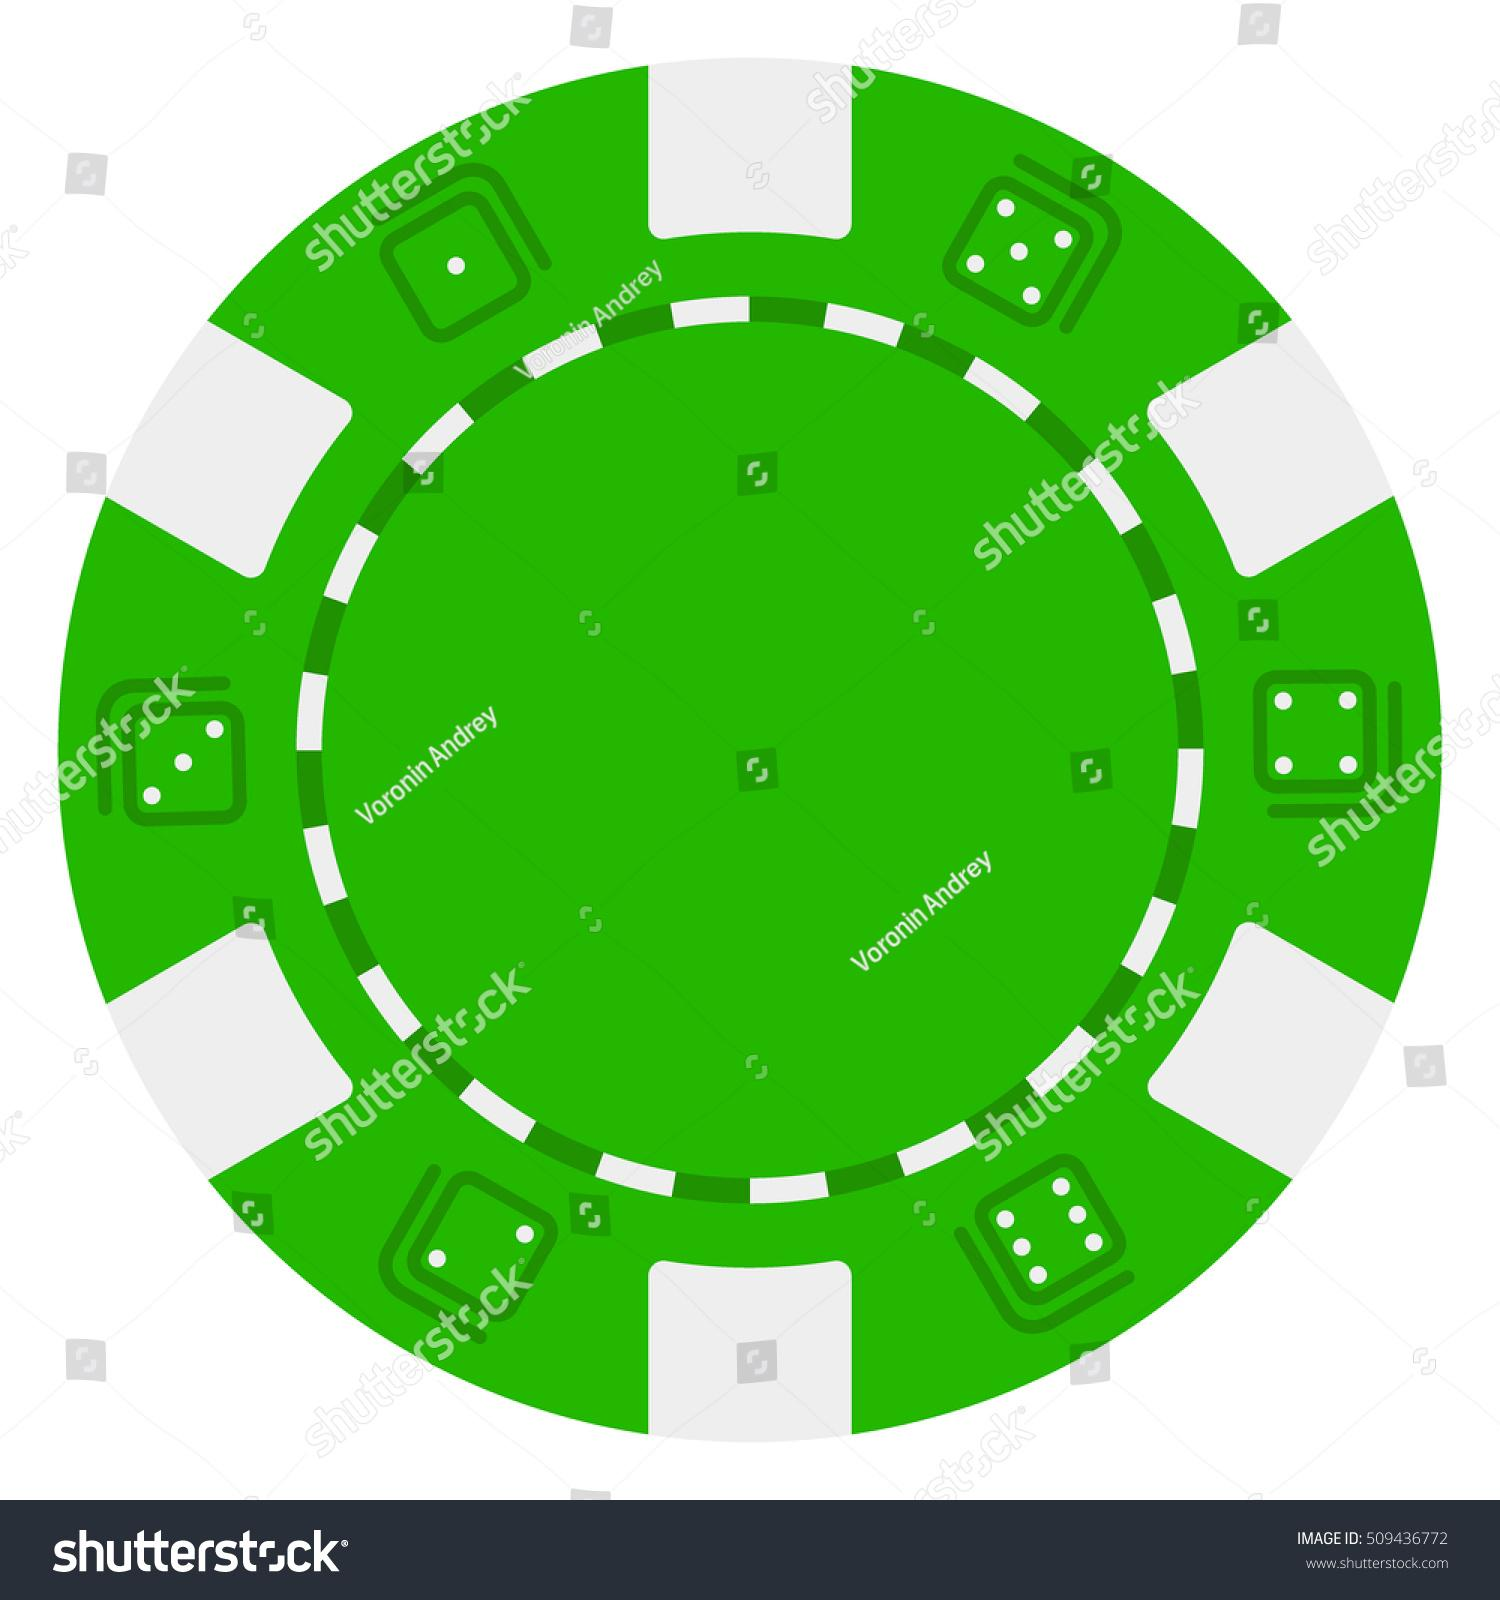chip-green: (59, 59, 1441, 1438)
